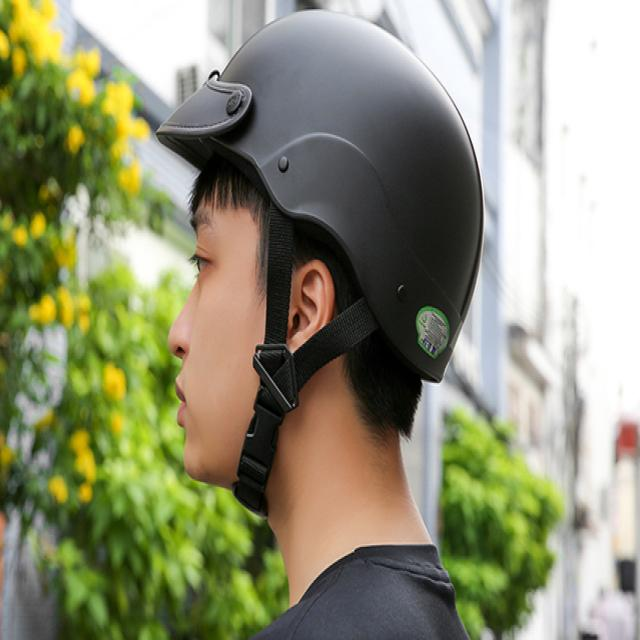Helmet: (147, 0, 506, 507)
